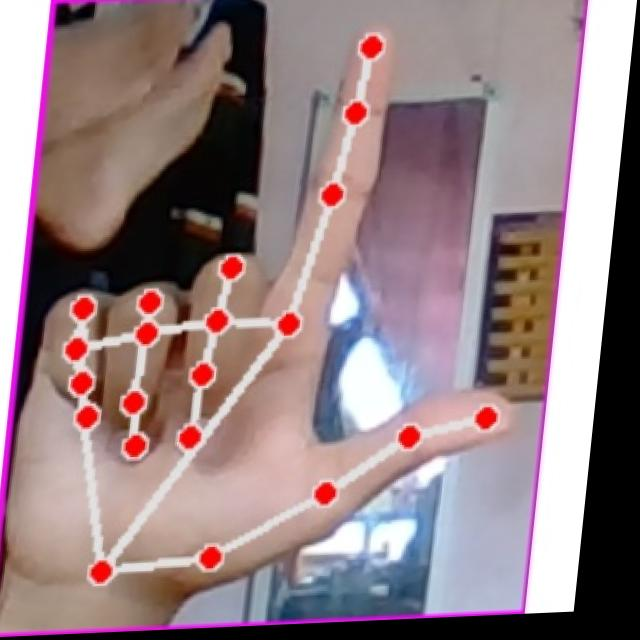L: (24, 14, 565, 605)
